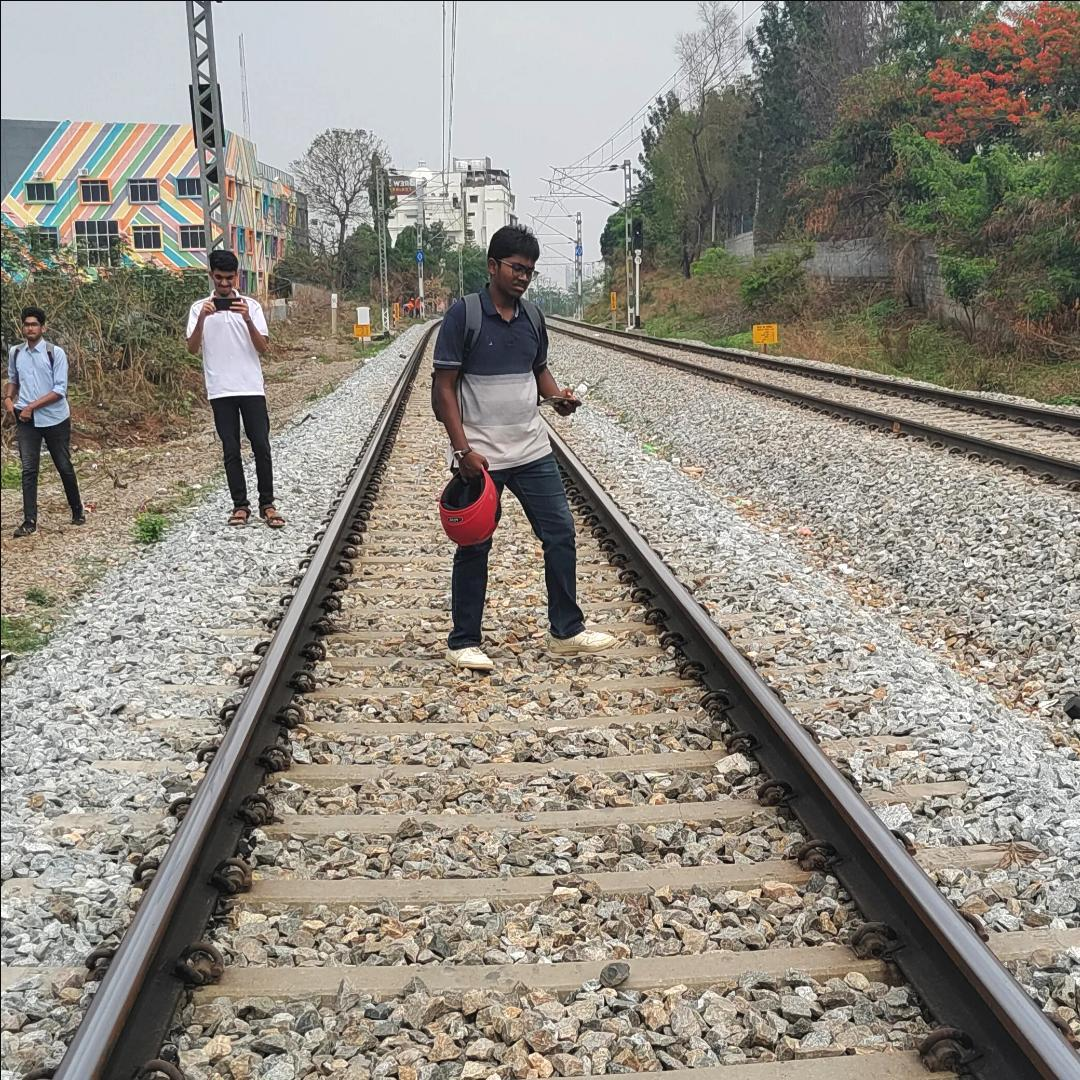standing: (422, 216, 622, 673), (180, 246, 288, 537), (5, 300, 92, 544)
track: (23, 296, 1080, 1080)
